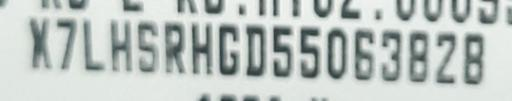letter: (24, 11, 58, 70), (212, 20, 246, 79), (294, 21, 328, 80), (347, 24, 379, 83), (431, 28, 463, 87), (458, 28, 490, 87), (162, 17, 192, 78), (376, 25, 406, 86), (320, 22, 352, 79), (106, 15, 136, 74), (80, 15, 110, 74), (268, 20, 298, 79), (134, 16, 164, 73), (54, 13, 82, 74), (406, 24, 434, 85), (188, 18, 216, 77), (240, 21, 268, 78)
